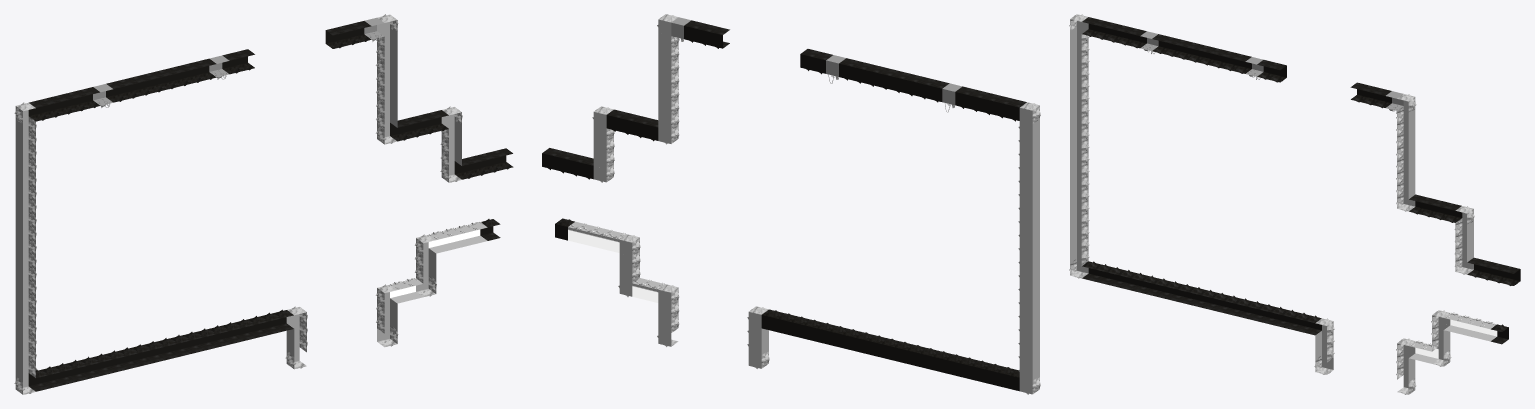
The model's file is Cubi_Room5.fbx.
3 renders of one model, left to right at view 1: azimuth 30°, elevation 25°; view 2: azimuth 150°, elevation 25°; view 3: azimuth 330°, elevation 25°, orthographic. The views are drawn at different scales.
Parts seen in each view (by area): view 1: Cubes_Room5; view 2: Cubes_Room5; view 3: Cubes_Room5.
Part boxes in pixels (left/top/right/bottom): Cubes_Room5: left=14, top=14, right=513, bottom=394; Cubes_Room5: left=542, top=14, right=1040, bottom=394; Cubes_Room5: left=1069, top=14, right=1520, bottom=394.
Size of the model in its own units: 3822 by 2445 by 100.
